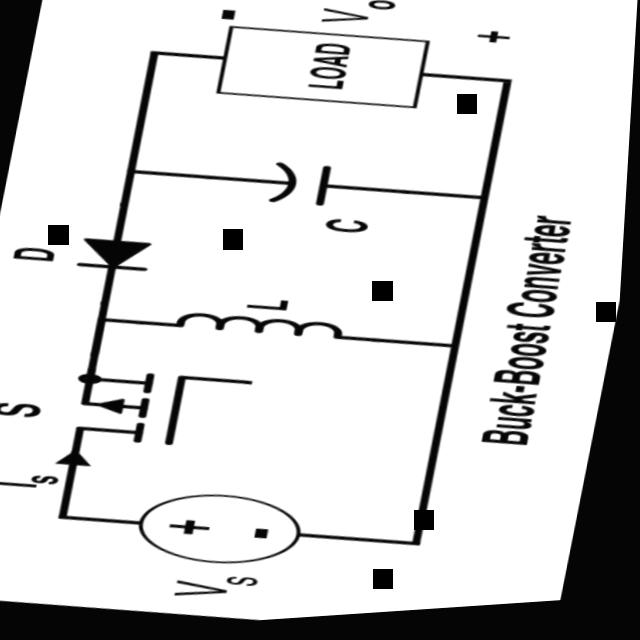capacitor: (223, 143, 375, 240)
diode: (68, 218, 187, 293)
inductor: (146, 286, 371, 372)
mosfet: (54, 347, 273, 478)
node: (66, 368, 113, 393)
resistor: (200, 11, 447, 133)
source: (119, 471, 332, 597)
